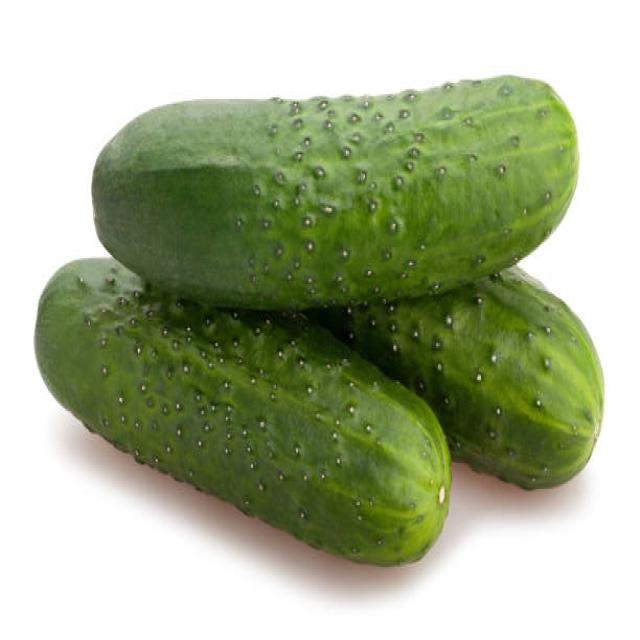cucumber: (33, 259, 452, 562), (91, 70, 578, 306)
